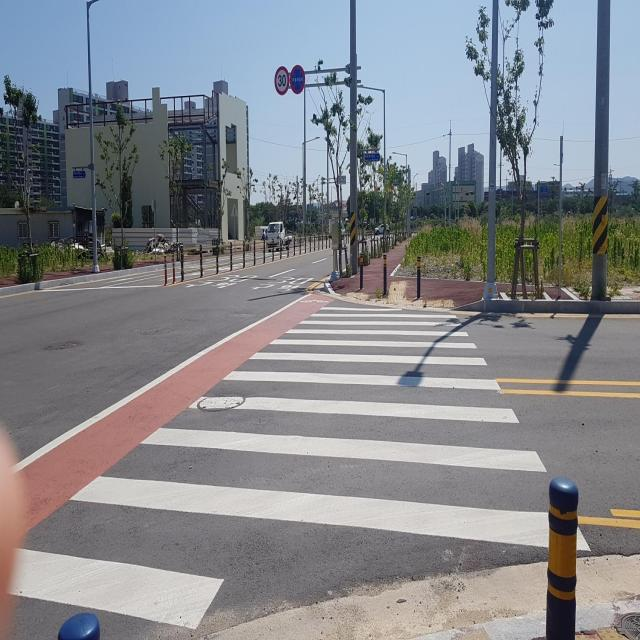횡단보도: (9, 305, 591, 639)
